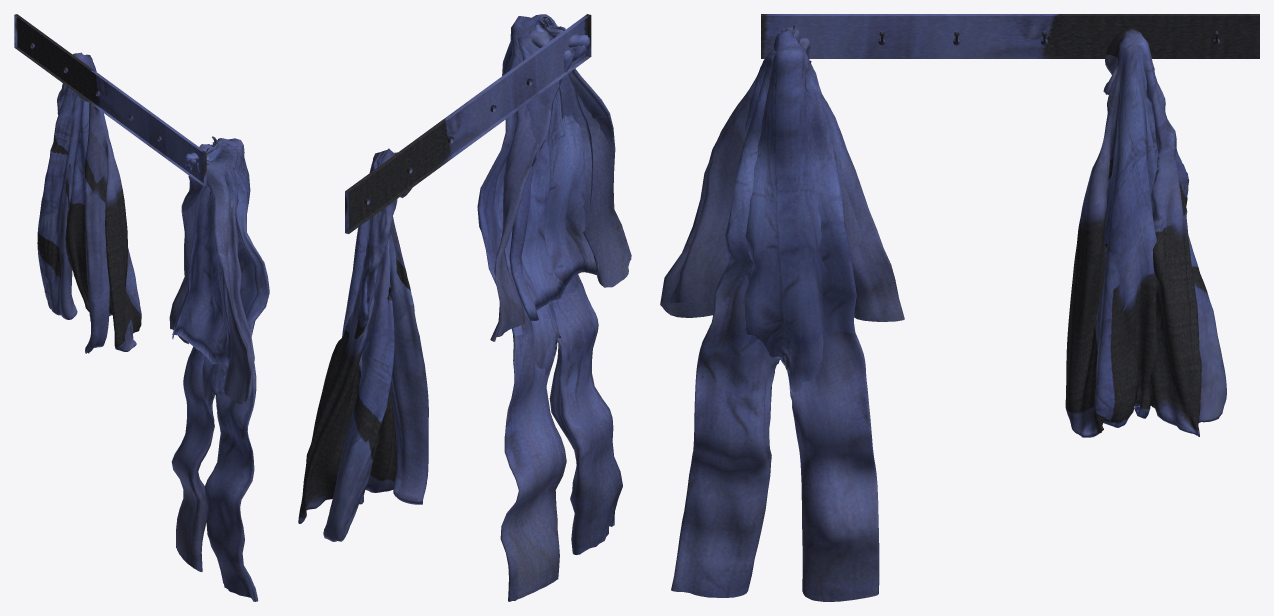
File: Clothing_WallDeko.fbx
3 views of the same model, side by side, from view 1: azimuth 30°, elevation 25°; view 2: azimuth 150°, elevation 25°; view 3: azimuth 270°, elevation 25° (orthographic). The views are drawn at different scales.
Parts seen in each view (by area): view 1: Clothing_WallDeko; view 2: Clothing_WallDeko; view 3: Clothing_WallDeko.
Part boxes in pixels (bbox=[...]): Clothing_WallDeko: bbox=[14, 14, 269, 601]; Clothing_WallDeko: bbox=[298, 14, 631, 601]; Clothing_WallDeko: bbox=[660, 14, 1259, 601].
Bounding box in the file's own units: 0.2817 × 1.58 × 1.49.
3 materials, 3 textured.
